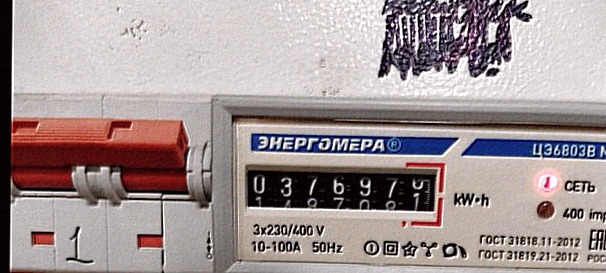0: (252, 172, 266, 194)
1: (410, 191, 422, 211)
3: (279, 175, 294, 198)
6: (331, 172, 346, 195)
7: (304, 173, 319, 196), (385, 176, 399, 199)
9: (357, 174, 372, 197)
screen: (236, 155, 447, 230)
